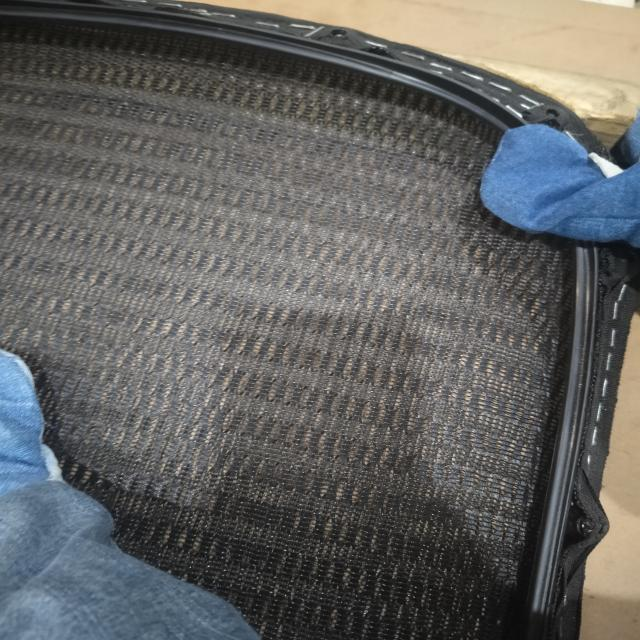Gloves-Detection: (0, 349, 209, 640), (475, 119, 640, 245)
